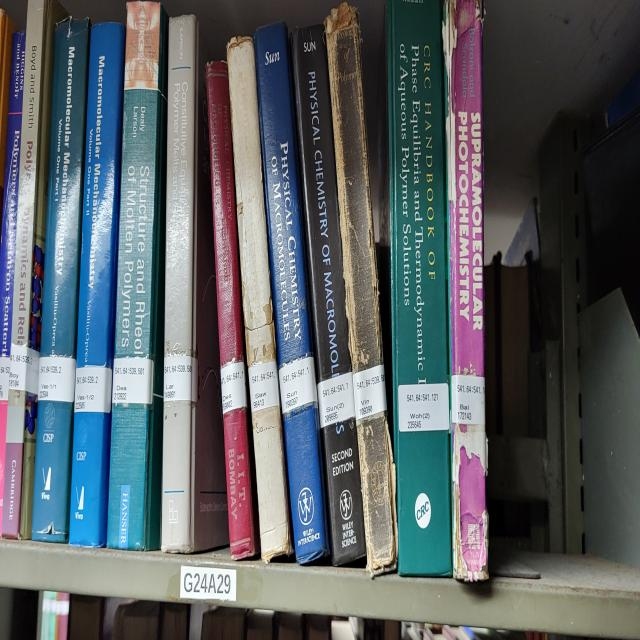Book: (325, 3, 398, 576), (291, 24, 366, 565), (255, 24, 329, 563), (386, 0, 452, 576), (161, 16, 229, 552), (1, 0, 66, 538), (228, 38, 291, 560), (108, 3, 168, 549), (31, 19, 90, 541), (69, 22, 126, 547), (206, 62, 259, 560), (444, 0, 489, 582)
Label: (398, 384, 450, 433), (279, 357, 318, 414), (318, 371, 355, 427), (112, 357, 154, 406), (352, 365, 386, 422), (38, 354, 76, 403), (75, 365, 112, 414), (249, 360, 280, 414), (164, 354, 198, 403), (451, 376, 485, 425), (9, 344, 40, 395), (220, 360, 248, 414)
